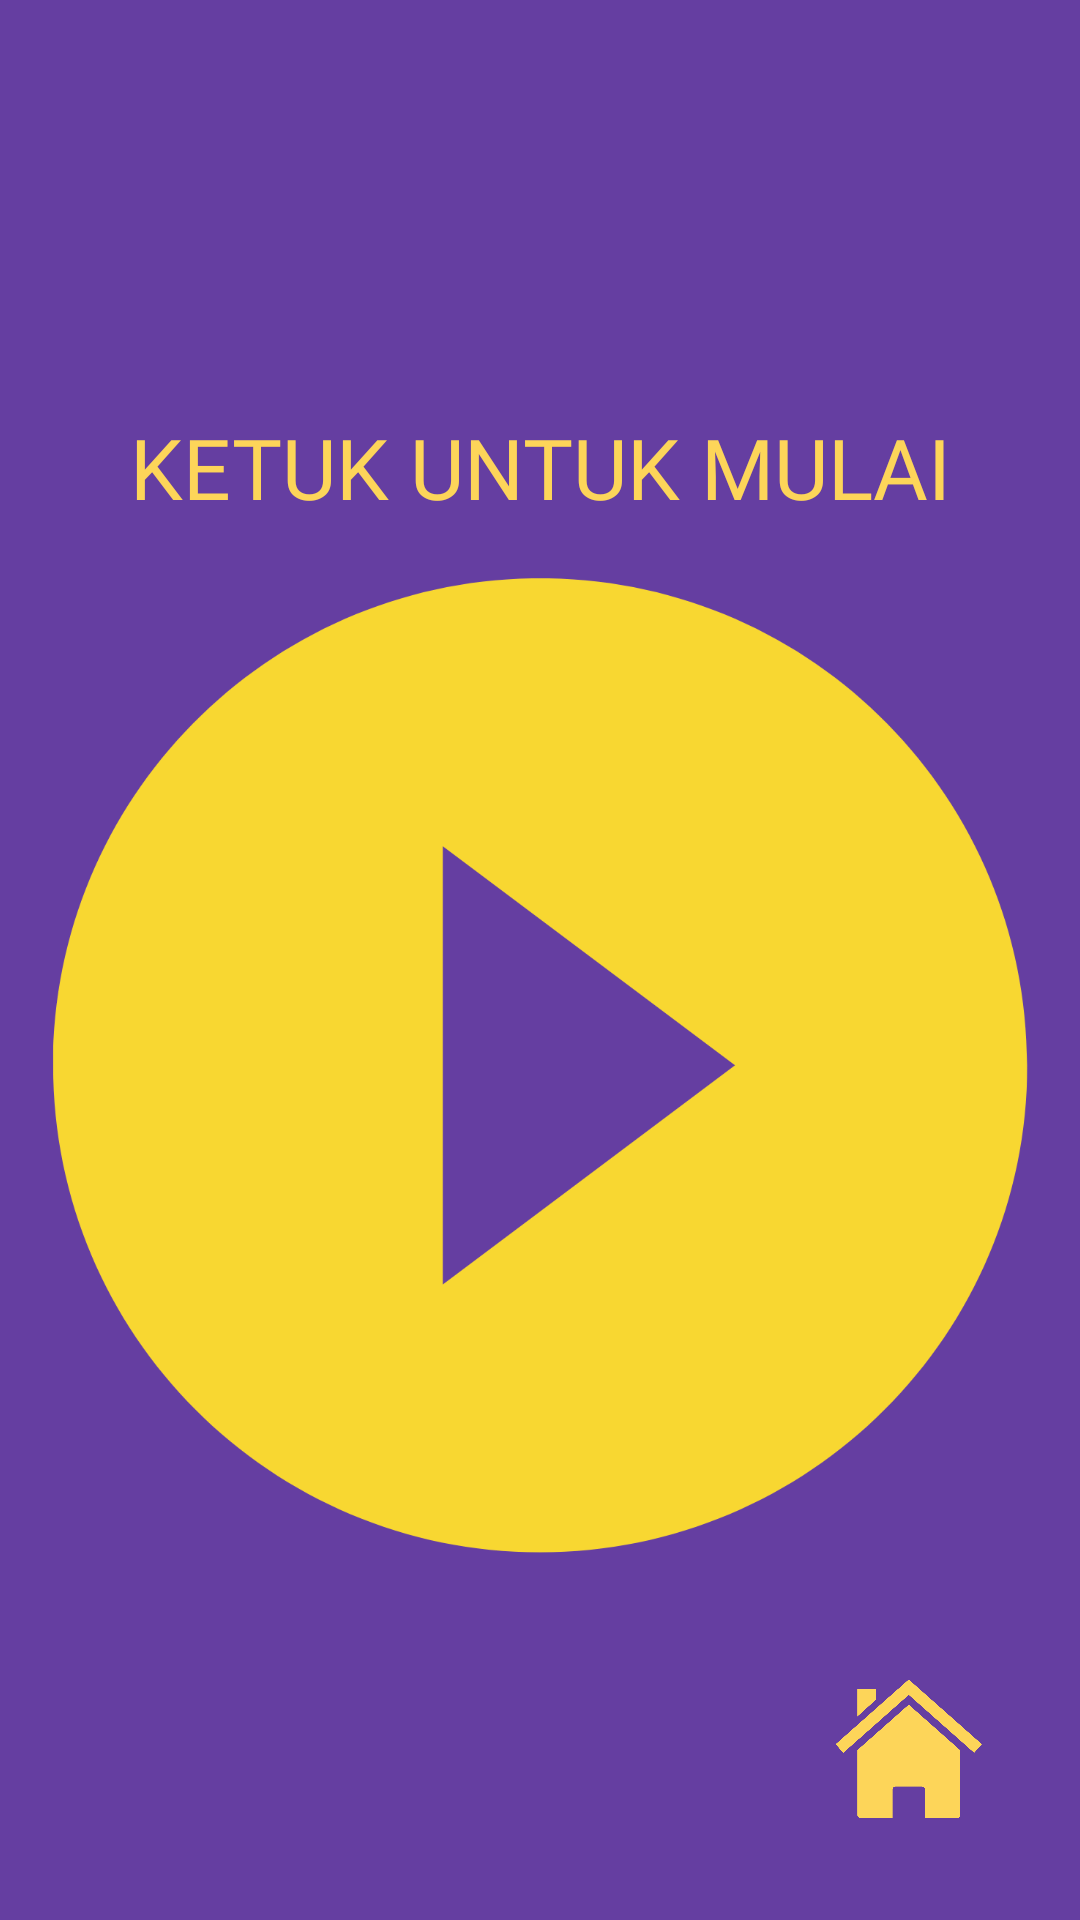

Icons on this 1080 × 1920 Android screen, each with its box as (x1, y1, x2, y2):
Icon home: (836, 1680, 982, 1818)
